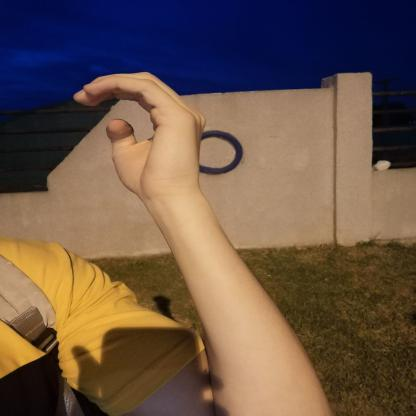JEEM: (55, 62, 219, 206)
